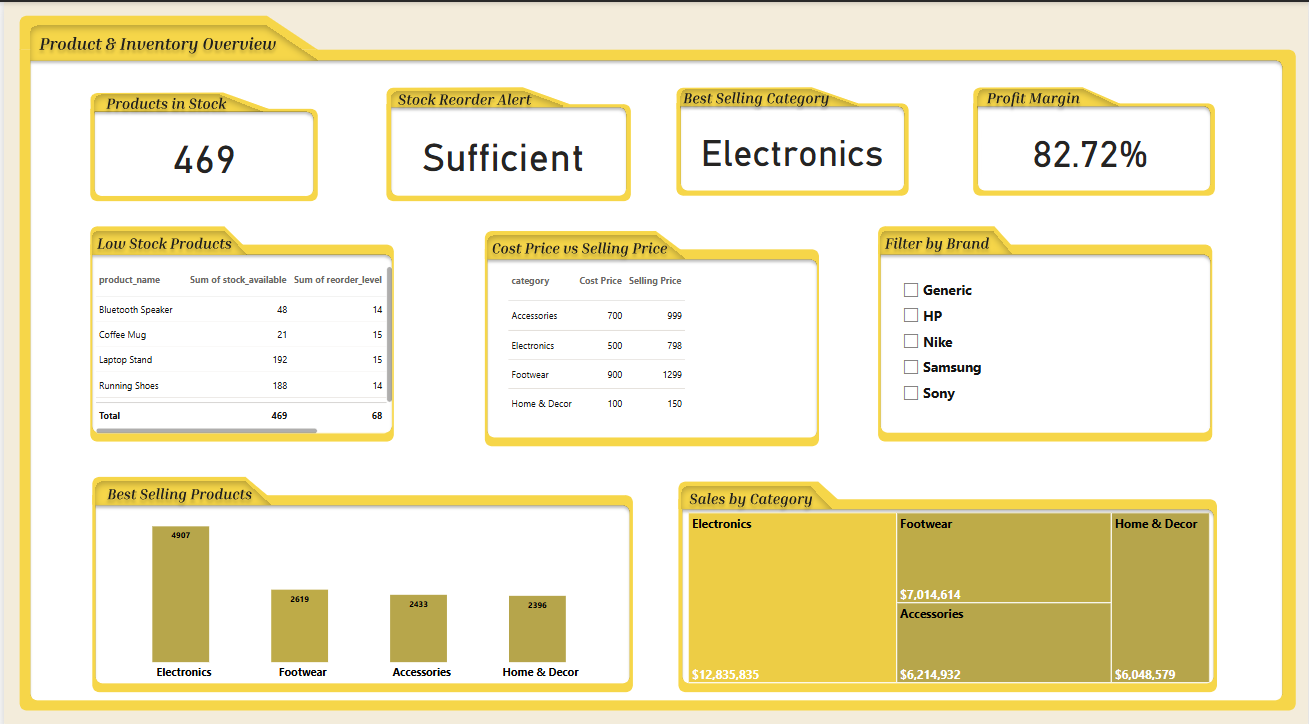

What the dashboard file says about the page in this screenshot:
{"tool":"powerbi","page":{"name":"Product & Inventory Dashboard","canvas":[1920,1080],"ordinal":7},"visuals":[{"type":"card","title":"Gross Sales","fields":{"Values":["Measures Table.Total Products in Stock"]},"box":[192,176,208,96],"z":0},{"type":"card","title":"Gross Sales","fields":{"Values":["public inventory_data.Stock Reorder Alert"]},"box":[608,176,256,88],"z":1000},{"type":"card","title":"Gross Sales","fields":{"Values":["Min(Measures Table.Best Selling Category)"]},"box":[1008,160,304,112],"z":2000},{"type":"card","fields":{"Values":["Measures Table.Gross Profit Margin"]},"box":[1440,176,320,80],"z":3000},{"type":"columnChart","title":"1","fields":{"Category":["public product_data.category"],"Y":["public sales_data.Total Quantity Sold"]},"box":[144,736,768,272],"z":4000},{"type":"treemap","fields":{"Group":["public product_data.category"],"Values":["Measures Table.Gross Sales"]},"box":[1003,748,777,260],"z":5000},{"type":"tableEx","title":"Gross Sales","fields":{"Values":["public product_data.product_name","Sum(public inventory_data.stock_available)","Sum(public inventory_data.reorder_level)","public inventory_data.Stock Reorder Alert"]},"box":[128,384,448,256],"z":6000},{"type":"tableEx","title":"Gross Sales","fields":{"Values":["public product_data.category","Sum(public product_data.cost_price)","Sum(public product_data.selling_price)"]},"box":[736,384,448,256],"z":7000},{"type":"slicer","fields":{"Values":["public product_data.brand"]},"box":[1312,400,432,224],"z":8000}]}

Visuals, with their boxes in screenshot pixels (x1, y1, x2, y2), scaled from the page's 1920x1080 canvas onto the 1309x724 screenshot:
"Gross Sales" card: 131, 118, 273, 182
"Gross Sales" card: 415, 118, 589, 177
"Gross Sales" card: 687, 107, 894, 182
card - Measures Table.Gross Profit Margin: 982, 118, 1200, 172
"1" columnChart: 98, 493, 622, 676
treemap - public product_data.category x Measures Table.Gross Sales: 684, 501, 1214, 676
"Gross Sales" tableEx: 87, 257, 393, 429
"Gross Sales" tableEx: 502, 257, 807, 429
slicer - public product_data.brand: 894, 268, 1189, 418
